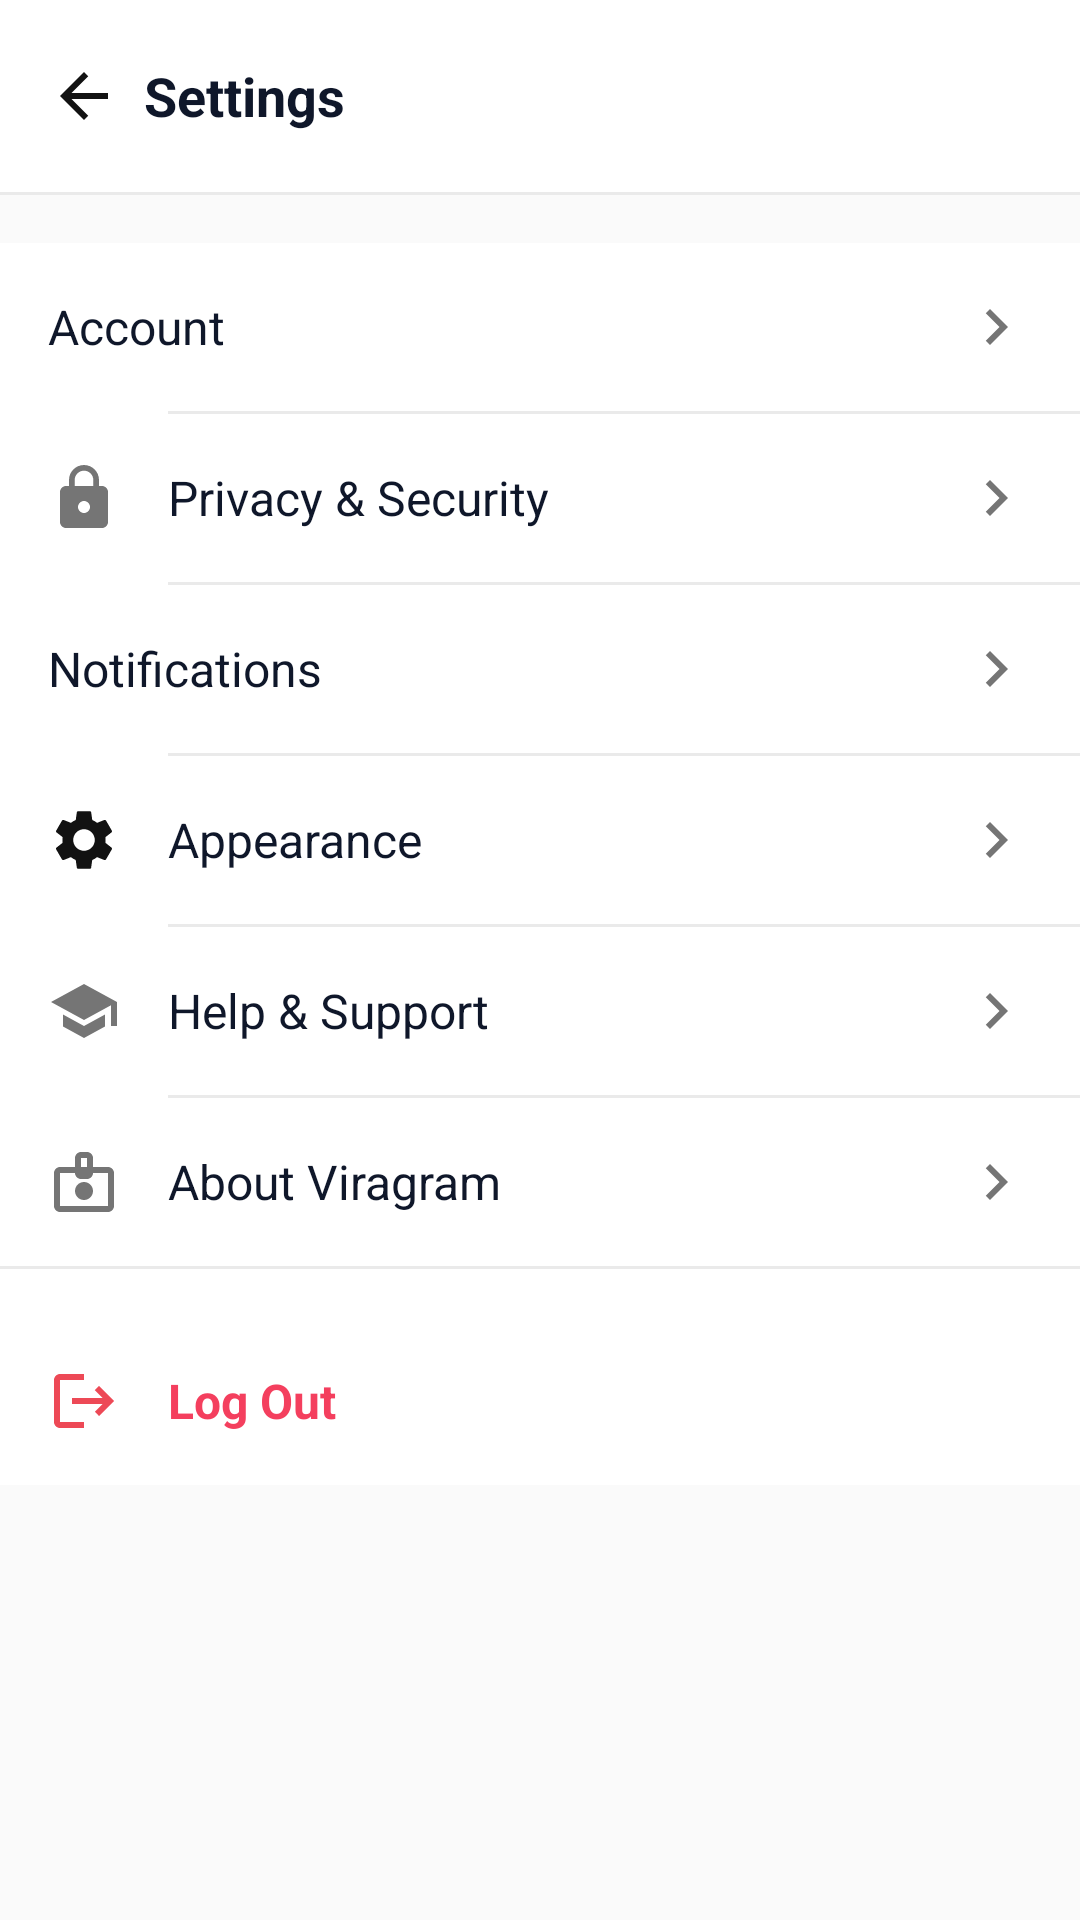

Icon bounding boxes for this 1080 x 1920 phone screenshot, format (x1, y1, x2, y2):
Go Back: (60, 72, 108, 120)
